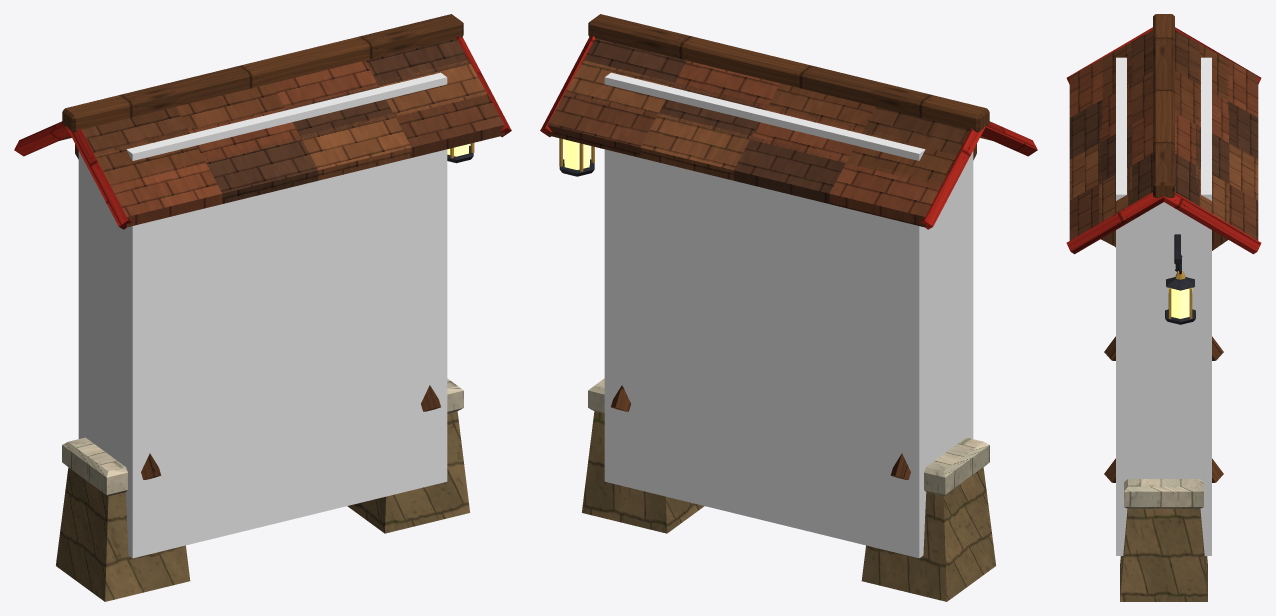
The model's file is notice_board.glb.
3 views of the same model, side by side, from view 1: azimuth 30°, elevation 25°; view 2: azimuth 150°, elevation 25°; view 3: azimuth 270°, elevation 25° (orthographic). The views are drawn at different scales.
Parts seen in each view (by area): view 1: col_notice_board, NoticeBoard; view 2: col_notice_board, NoticeBoard; view 3: NoticeBoard, col_notice_board.
Boxes of the visible parts, x1=… form: col_notice_board: x1=78, y1=72, x2=447, y2=558; NoticeBoard: x1=14, y1=14, x2=511, y2=601; col_notice_board: x1=604, y1=72, x2=973, y2=558; NoticeBoard: x1=540, y1=14, x2=1037, y2=601; NoticeBoard: x1=1066, y1=14, x2=1261, y2=601; col_notice_board: x1=1116, y1=57, x2=1211, y2=555.
Bounding box in the file's own units: 3.13 × 3.41 × 1.42.
8 materials, 6 textured.
